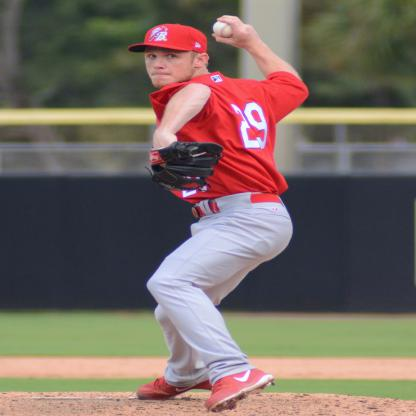Ball: (214, 20, 234, 36)
